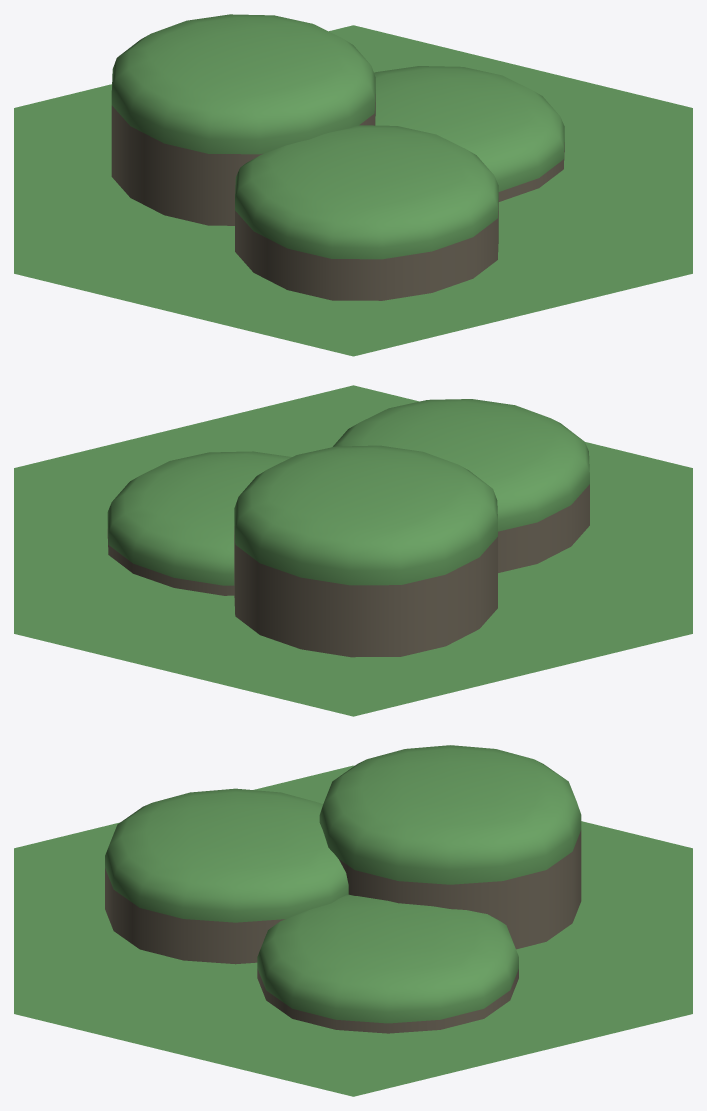
File: t_hilltop.fbx
3 views of the same model, one above another, from view 1: azimuth 30°, elevation 25°; view 2: azimuth 150°, elevation 25°; view 3: azimuth 270°, elevation 25° (orthographic).
Visible parts, largest first — view 1: t_blank4, pCube99, pCube101, pCube109; view 2: t_blank4, pCube101, pCube99, pCube109; view 3: t_blank4, pCube101, pCube99, pCube109.
Boxes of the visible parts, x1,y1,x2,y2 form: t_blank4: (14,25,692,356); pCube99: (235,125,498,300); pCube101: (111,14,375,225); pCube109: (374,66,564,201); t_blank4: (14,385,692,716); pCube101: (234,445,497,657); pCube99: (333,399,589,572); pCube109: (107,451,291,595); t_blank4: (14,765,692,1096); pCube101: (319,745,581,949); pCube99: (105,788,348,964); pCube109: (257,894,518,1033).
Size of the model in its own units: 20000 by 4353 by 17321.
